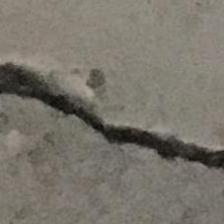Crack: (0, 52, 224, 183)
